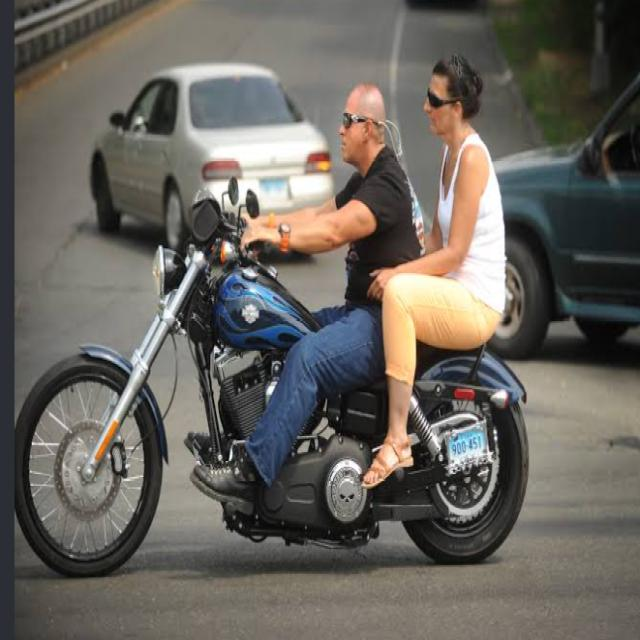WithoutHelmet: (188, 85, 424, 501), (363, 59, 507, 487)
